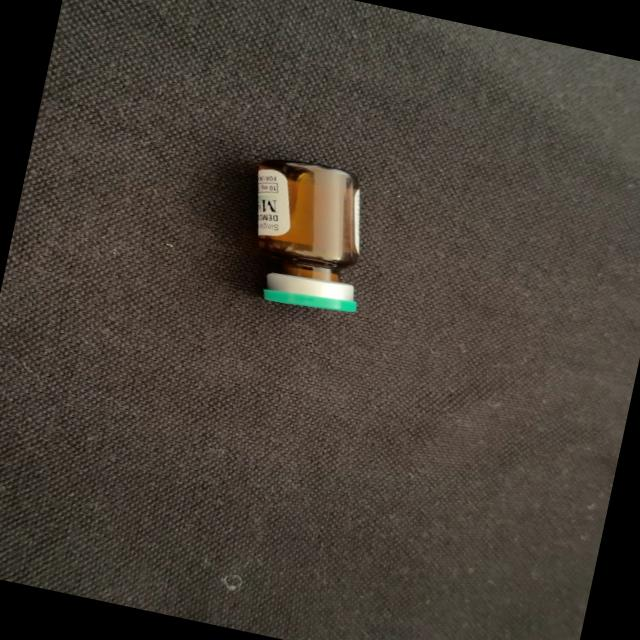midazolm: (232, 156, 380, 316)
